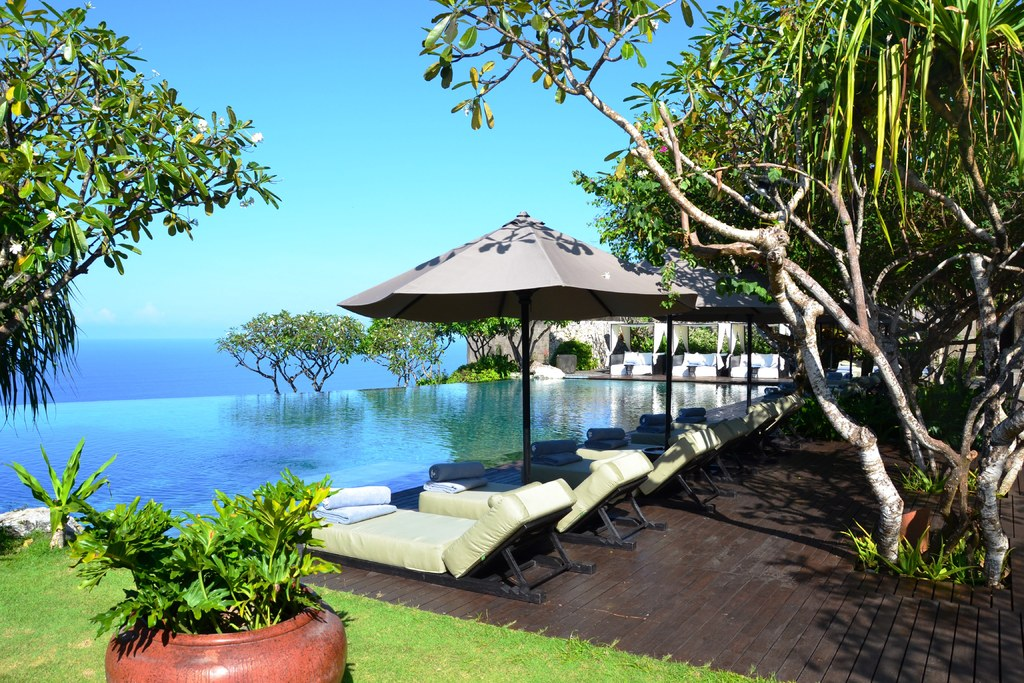Tree: (425, 0, 1023, 590), (0, 0, 280, 433), (209, 304, 572, 391), (624, 317, 808, 356)
